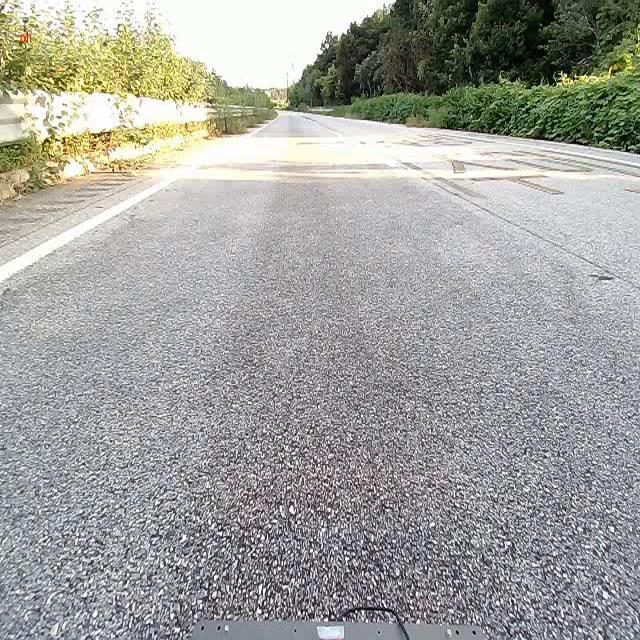Lane: (2, 166, 174, 290), (0, 174, 177, 294)
